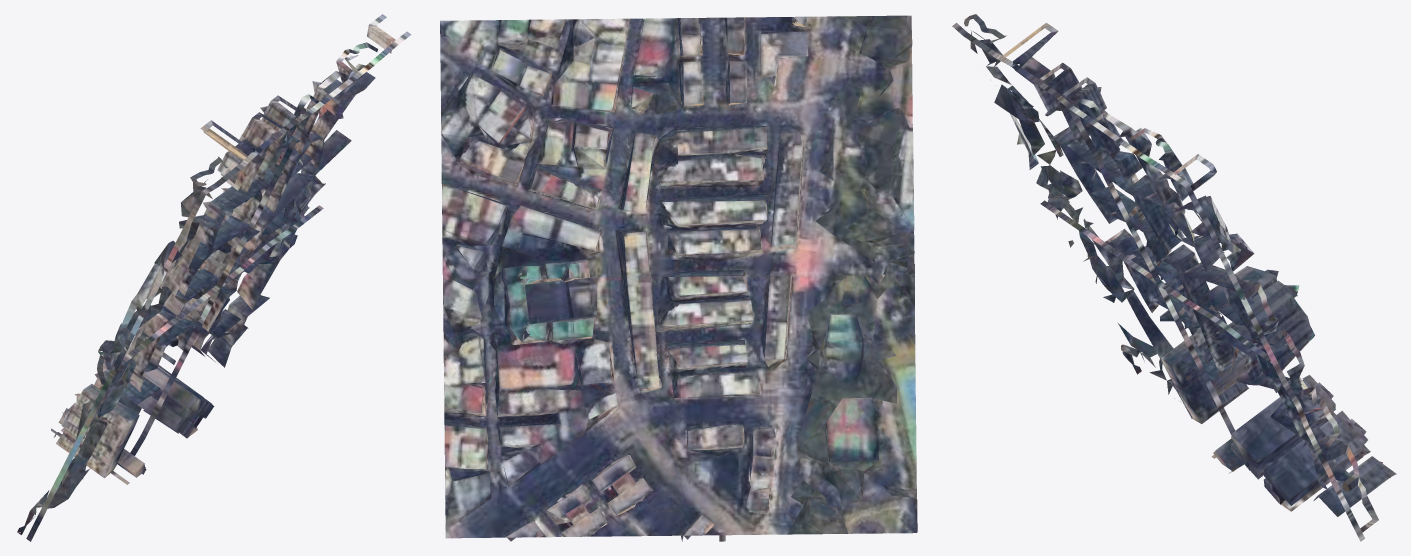
3 views of the same model, side by side, from view 1: azimuth 30°, elevation 25°; view 2: azimuth 150°, elevation 25°; view 3: azimuth 270°, elevation 25° (orthographic). The views are drawn at different scales.
Size of the model in its own units: 312 by 300 by 277.
1 material, 1 textured.
